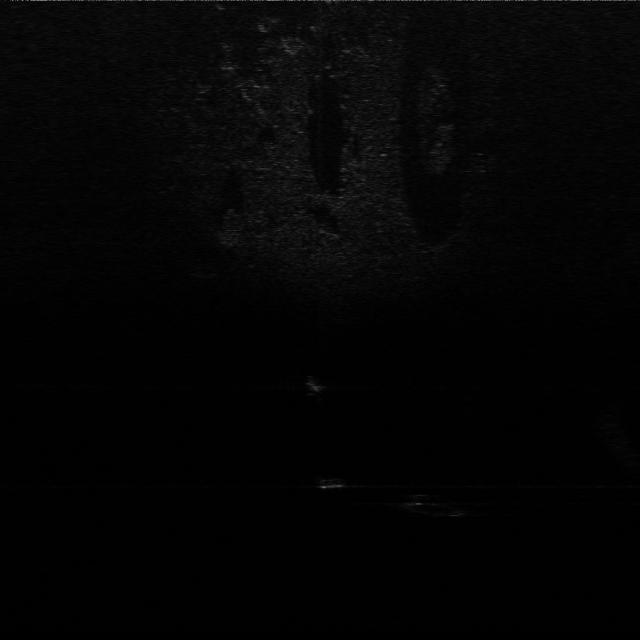cube: (313, 469, 363, 493)
square cage: (300, 372, 340, 396)
tyre: (396, 490, 476, 524)
